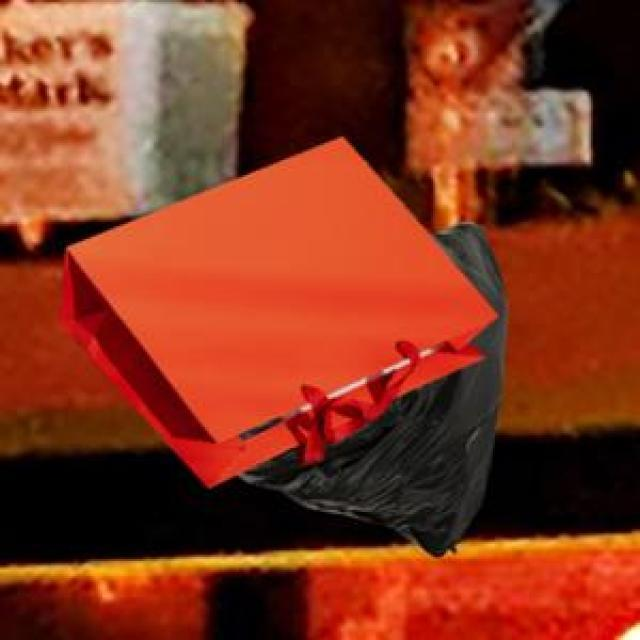miscellaneous trash: (233, 218, 499, 553)
paper: (58, 132, 493, 484)
